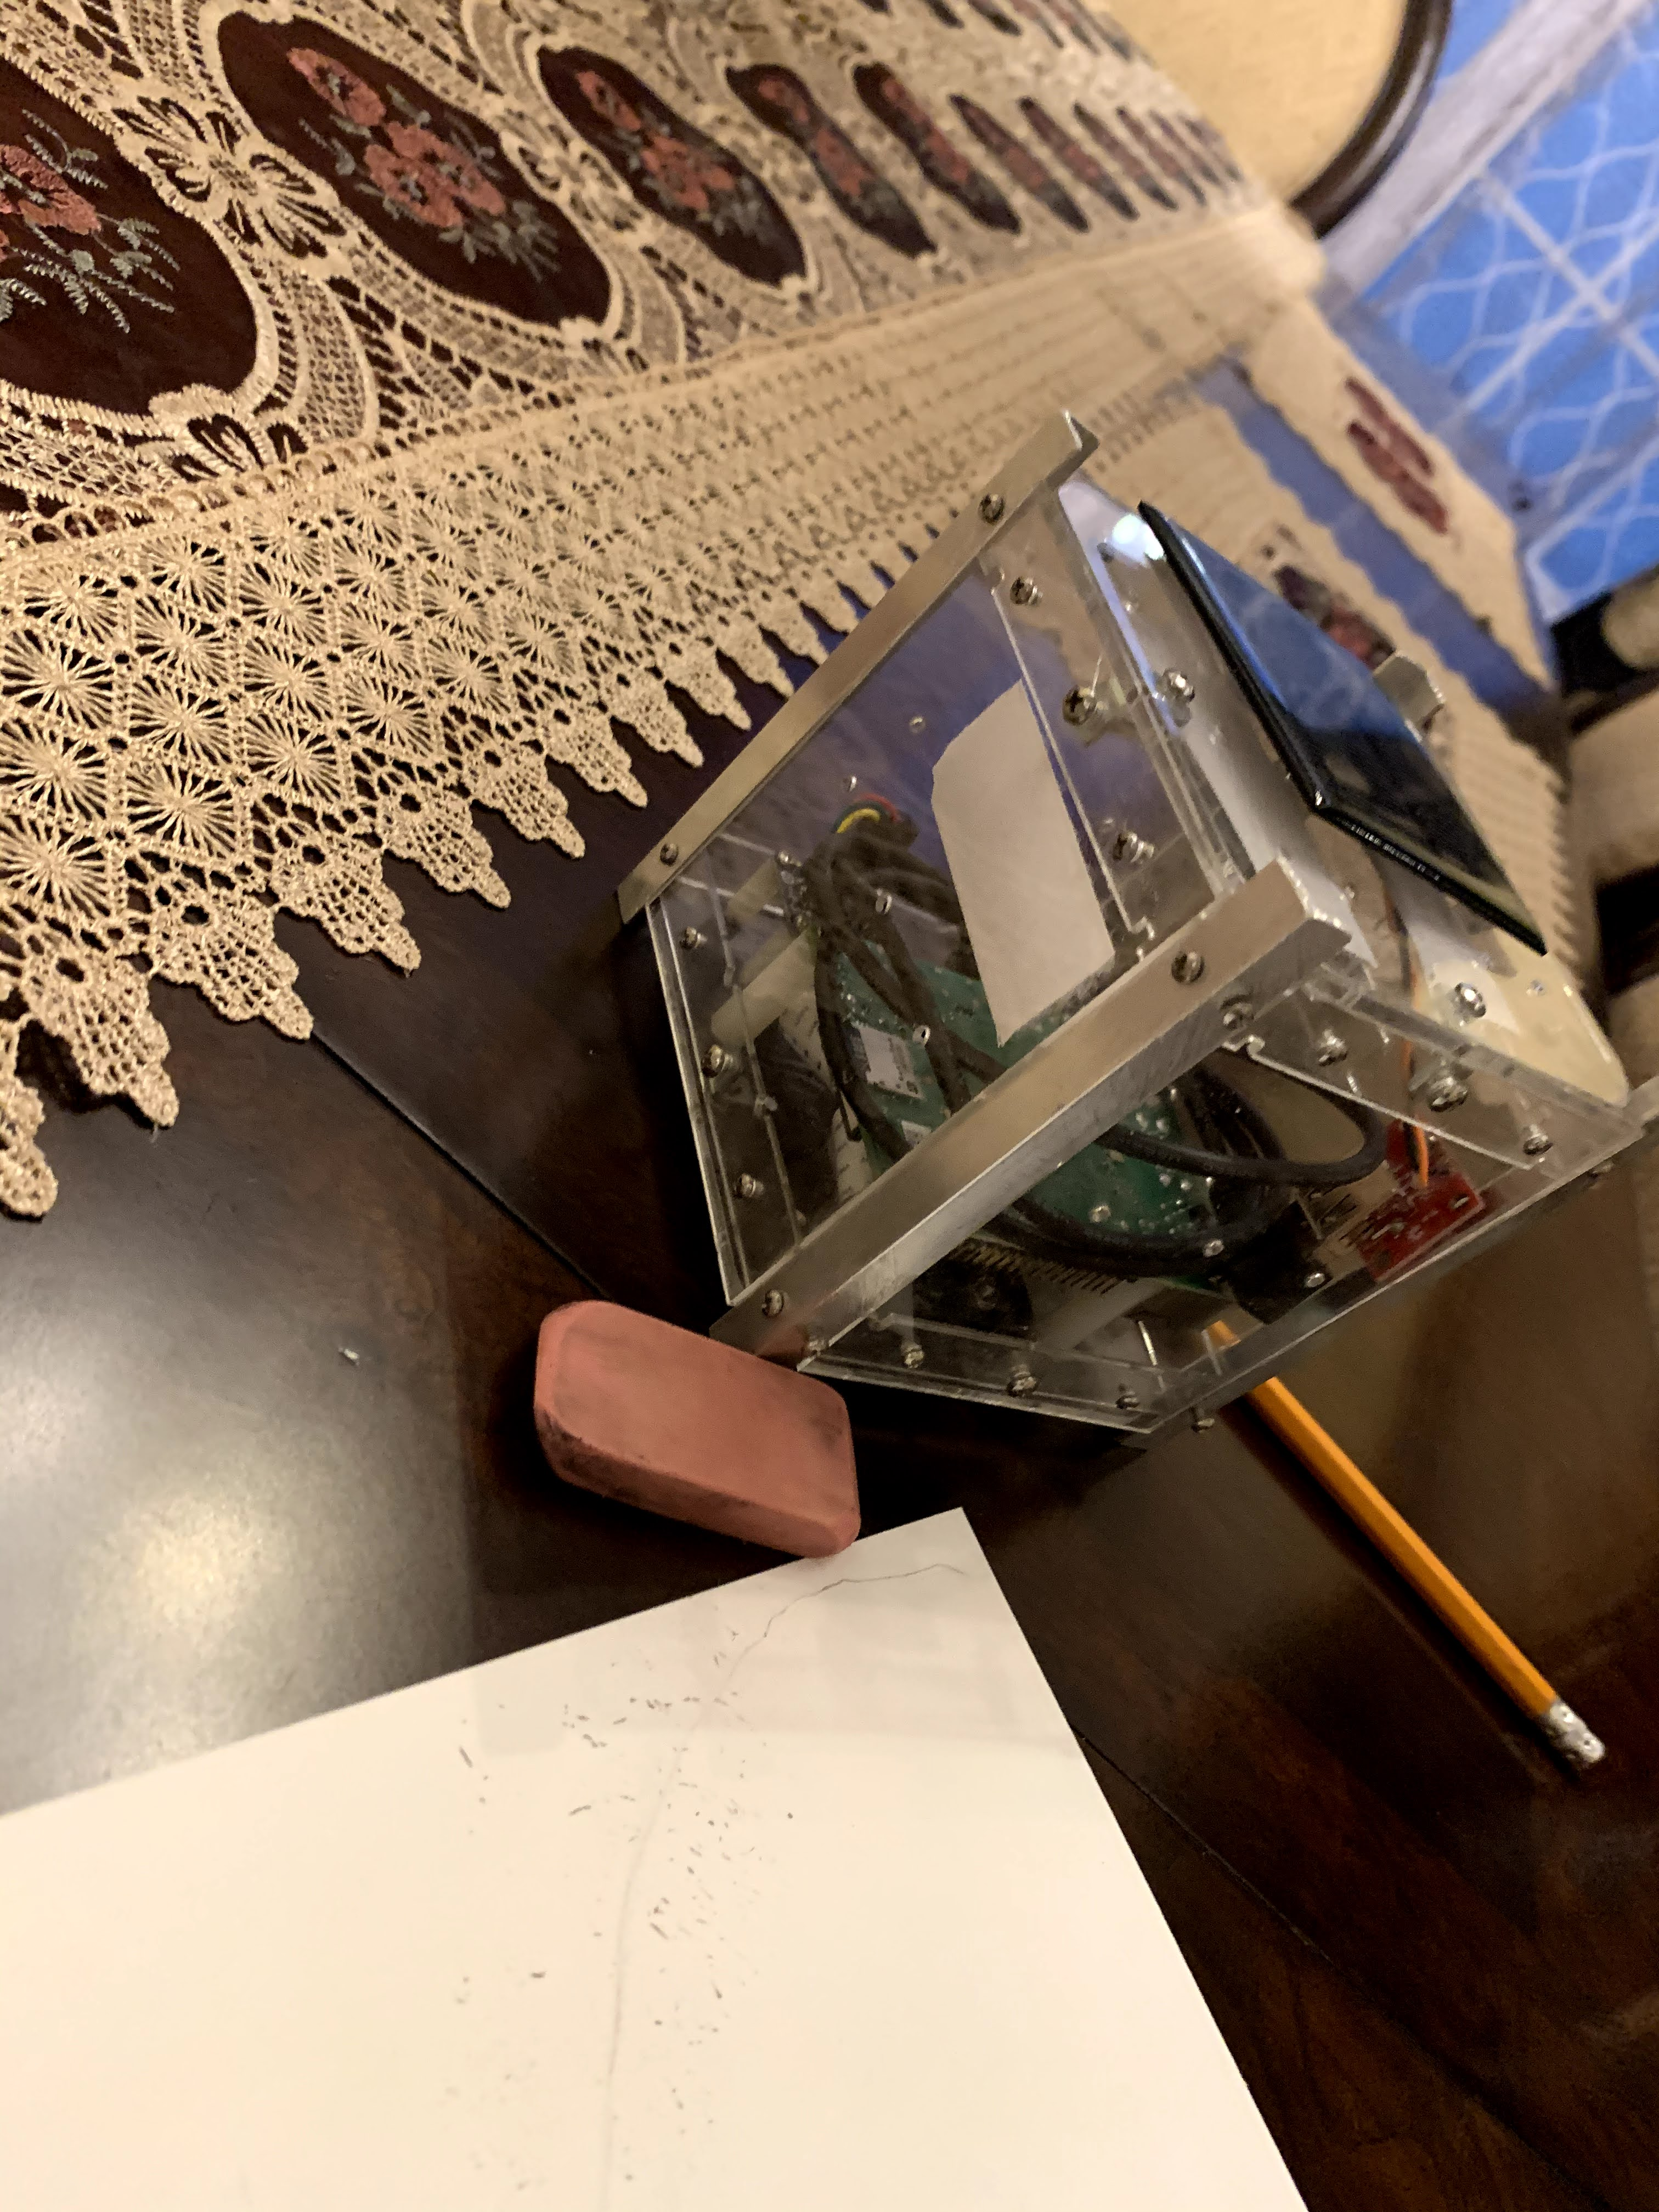Space-debris-cubesat: (598, 408, 1656, 1442)
